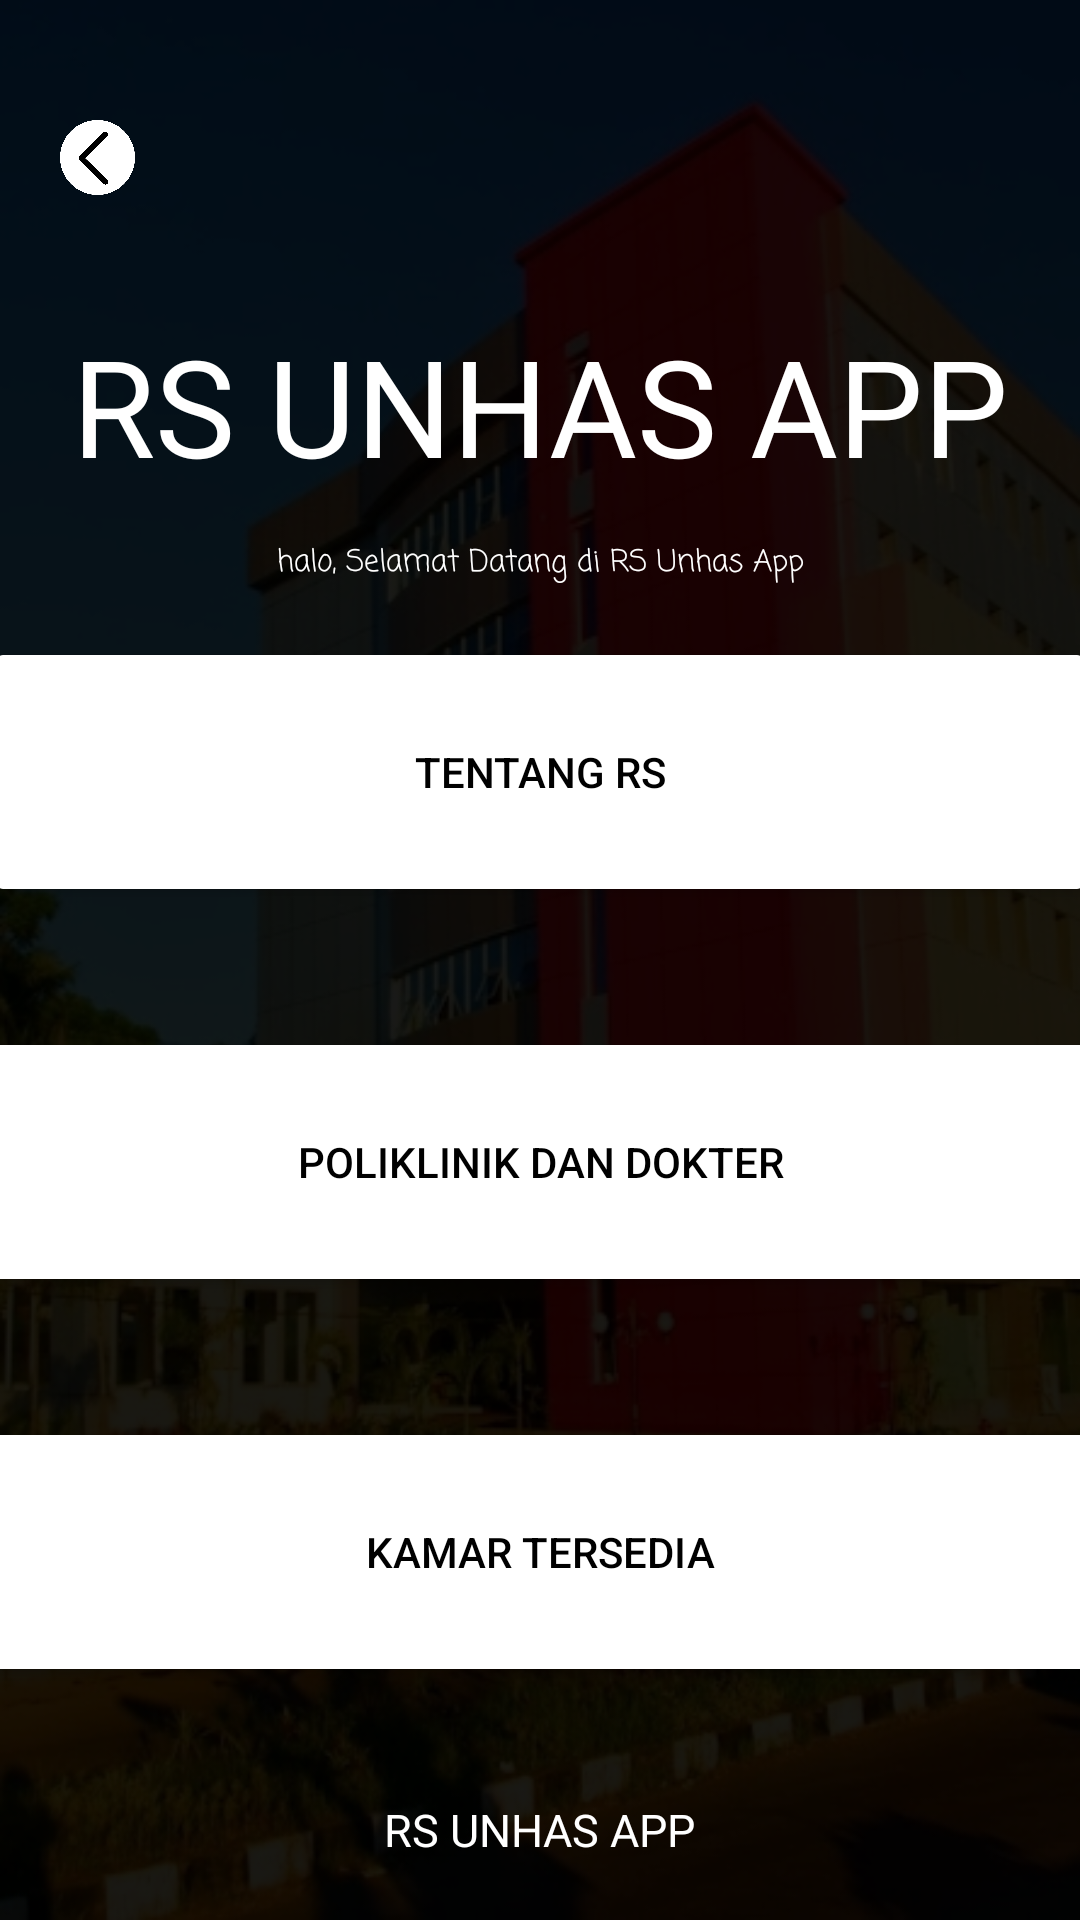

Icons on this 1080×1920 Android screen, each with the point to tap as point (x, y):
back: point (97, 157)
